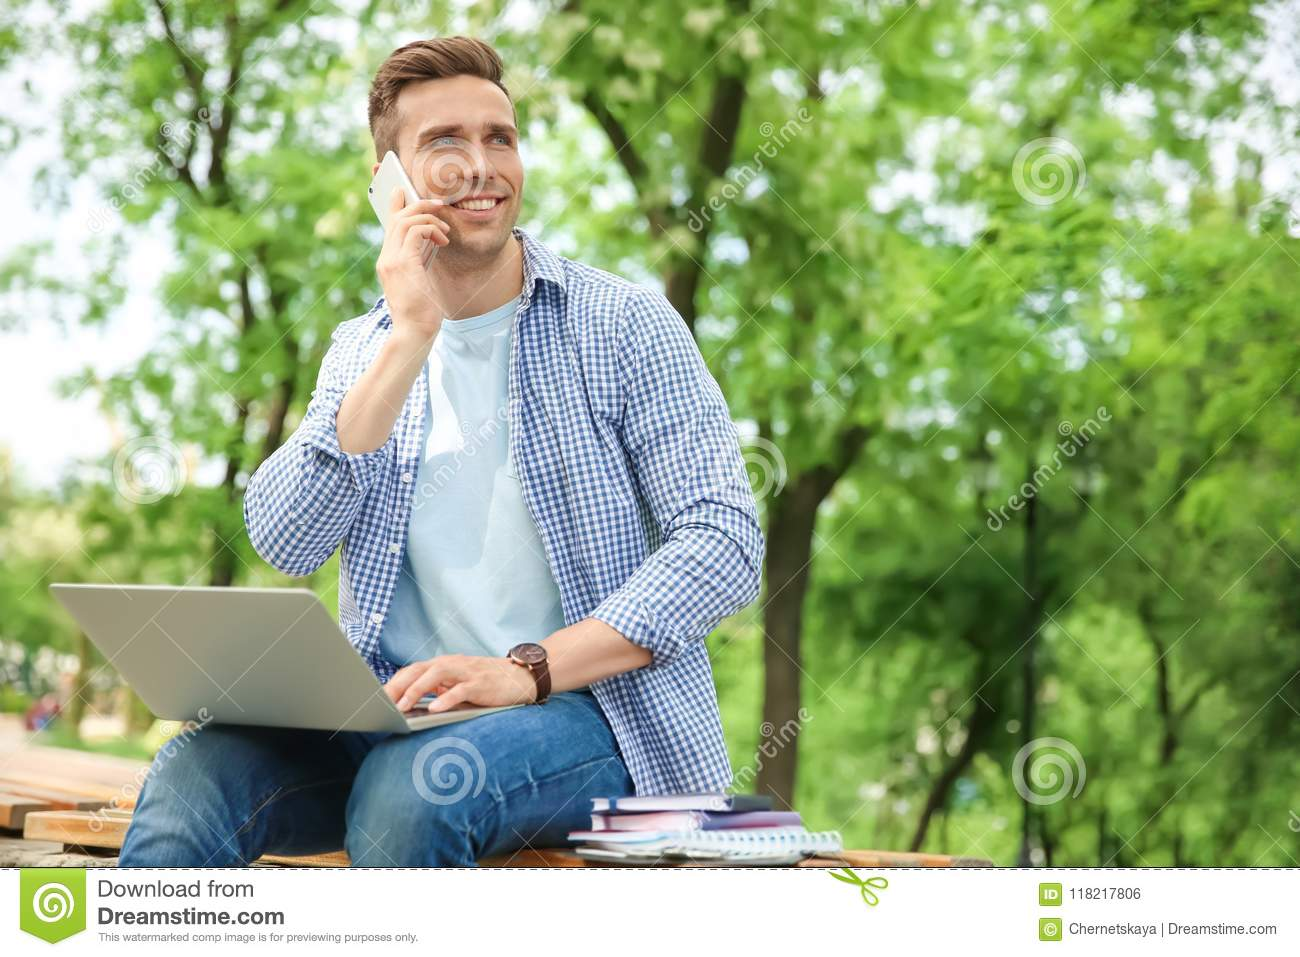phone: (369, 153, 436, 268)
talk: (367, 113, 522, 335)
